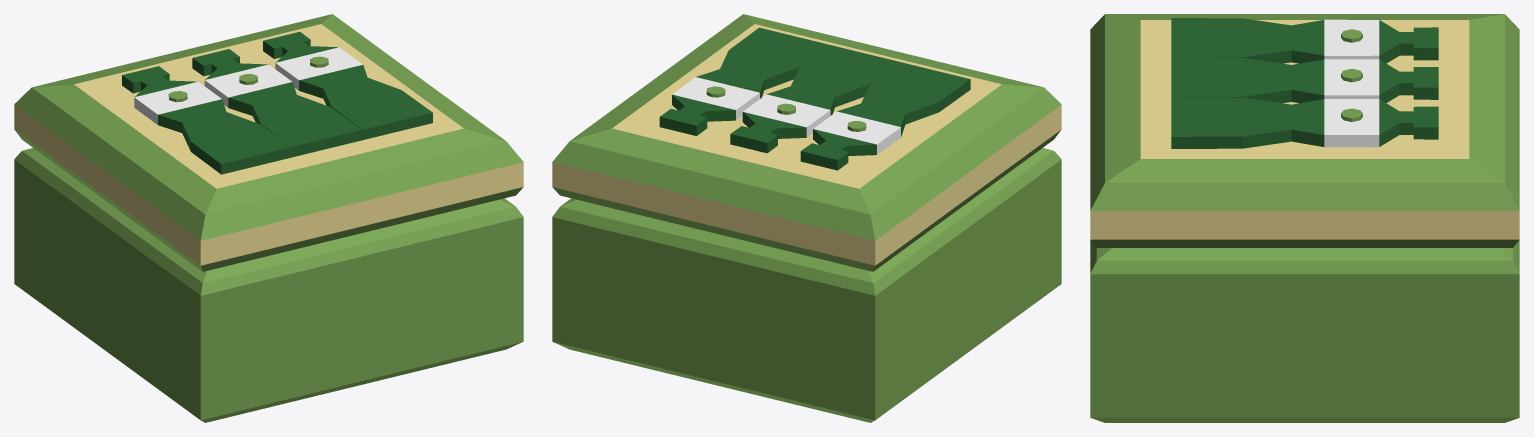
Rendered from OilBoxFRFR.fbx.
3 views of the same model, side by side, from view 1: azimuth 30°, elevation 25°; view 2: azimuth 150°, elevation 25°; view 3: azimuth 270°, elevation 25° (orthographic). The views are drawn at different scales.
Visible parts, largest first — view 1: CajaAmmoPaAnimacion.001, CajaAmmoPaAnimacion; view 2: CajaAmmoPaAnimacion.001, CajaAmmoPaAnimacion; view 3: CajaAmmoPaAnimacion.001, CajaAmmoPaAnimacion.
Boxes of the visible parts, <box> form: CajaAmmoPaAnimacion.001: <box>14,14,523,271</box>; CajaAmmoPaAnimacion: <box>14,148,523,422</box>; CajaAmmoPaAnimacion.001: <box>552,14,1061,271</box>; CajaAmmoPaAnimacion: <box>552,148,1061,422</box>; CajaAmmoPaAnimacion.001: <box>1090,14,1519,247</box>; CajaAmmoPaAnimacion: <box>1090,240,1519,422</box>.
Size of the model in its own units: 200 by 138 by 200.
